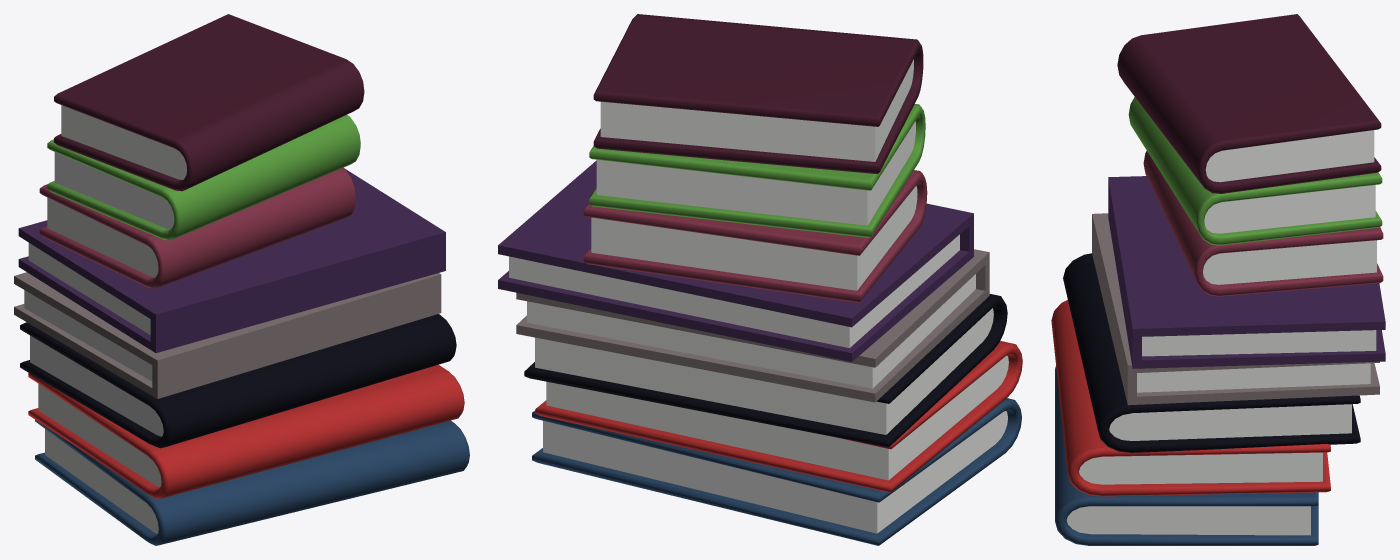
The model's file is 8livrosV2.fbx.
3 views of the same model, side by side, from view 1: azimuth 30°, elevation 25°; view 2: azimuth 150°, elevation 25°; view 3: azimuth 270°, elevation 25° (orthographic). The views are drawn at different scales.
Visible parts, largest first — view 1: Cylinder.005; view 2: Cylinder.005; view 3: Cylinder.005.
Part boxes in pixels (left/top/right/bottom): Cylinder.005: left=14, top=14, right=469, bottom=545; Cylinder.005: left=498, top=14, right=1022, bottom=545; Cylinder.005: left=1051, top=14, right=1385, bottom=545.
Bounding box in the file's own units: 73.22 × 78.47 × 61.81.
